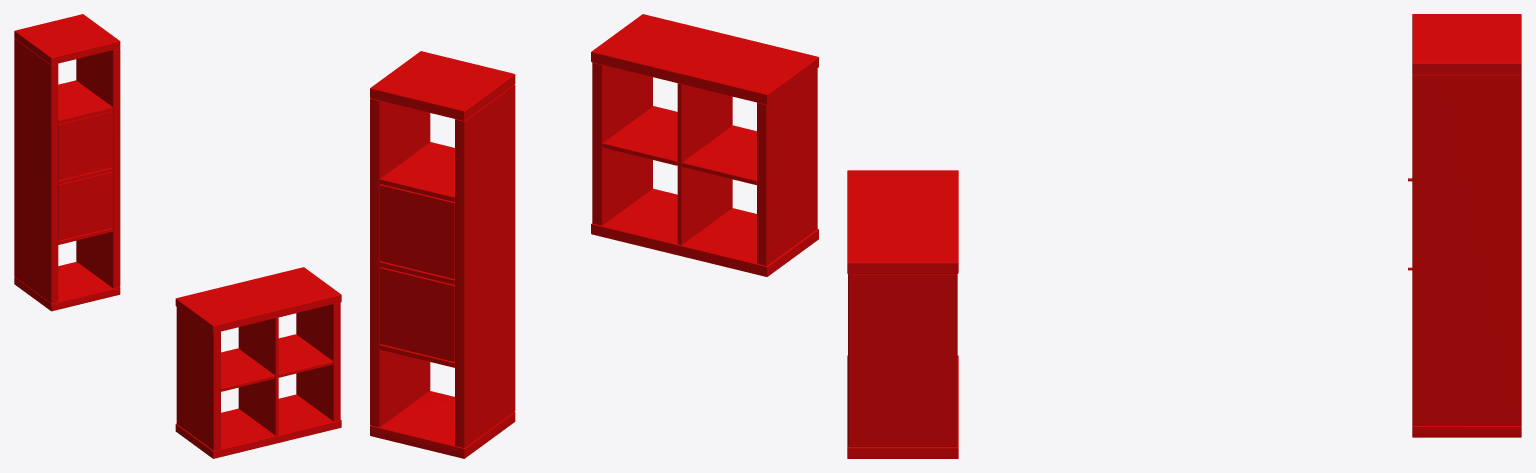
File: thorkea_shelving_units_grp.fbx
3 views of the same model, side by side, from view 1: azimuth 30°, elevation 25°; view 2: azimuth 150°, elevation 25°; view 3: azimuth 270°, elevation 25° (orthographic). The views are drawn at different scales.
Parts seen in each view (by area): view 1: thorkea_shelving_unit_kallax_large, thorkea_shelving_unit_kallax_small; view 2: thorkea_shelving_unit_kallax_large, thorkea_shelving_unit_kallax_small; view 3: thorkea_shelving_unit_kallax_large, thorkea_shelving_unit_kallax_small.
Part boxes in pixels (x1,y1,x2,y2): thorkea_shelving_unit_kallax_large: (14,14,120,311); thorkea_shelving_unit_kallax_small: (175,267,341,458); thorkea_shelving_unit_kallax_large: (370,51,515,458); thorkea_shelving_unit_kallax_small: (591,14,818,276); thorkea_shelving_unit_kallax_large: (1408,14,1521,437); thorkea_shelving_unit_kallax_small: (847,170,958,458).
Bounding box in the file's own units: 77.99 × 147 × 240.
